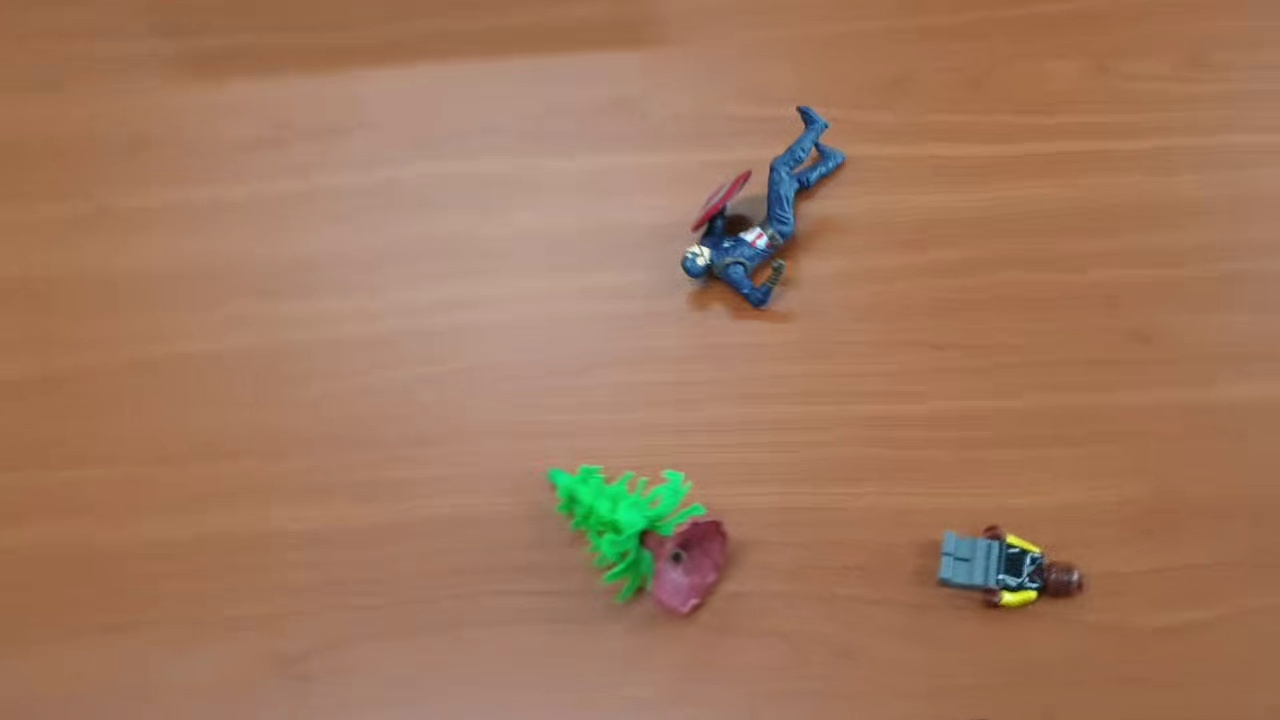people: (681, 107, 850, 312), (937, 521, 1083, 610)
tree: (545, 462, 728, 616)
